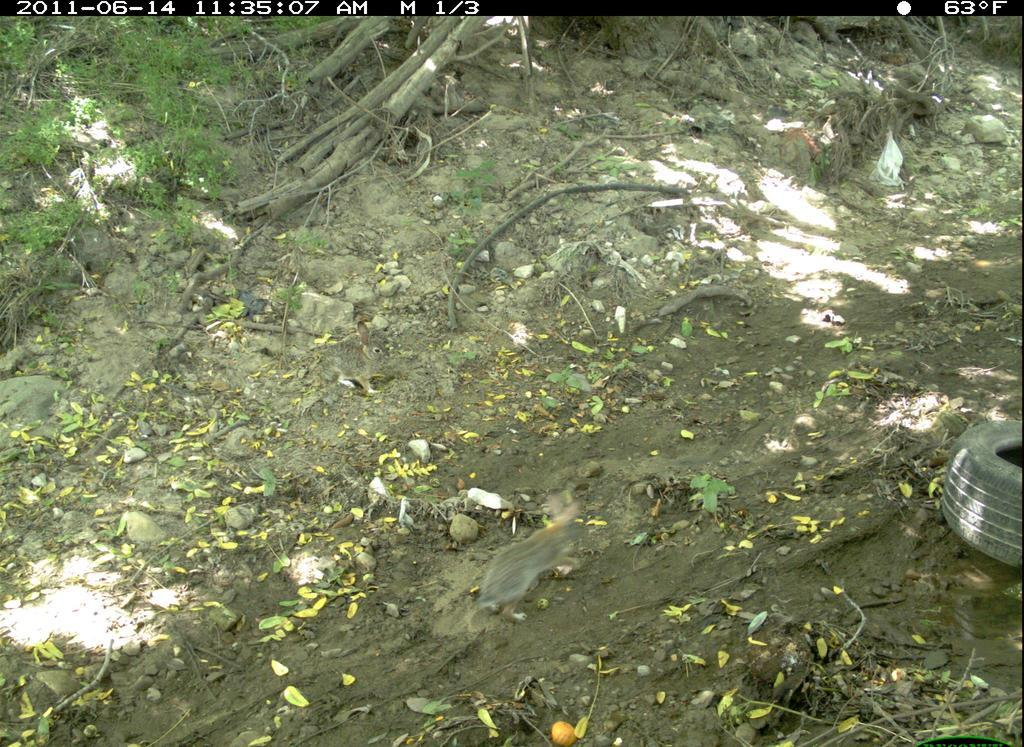rabbit: (475, 483, 597, 626)
